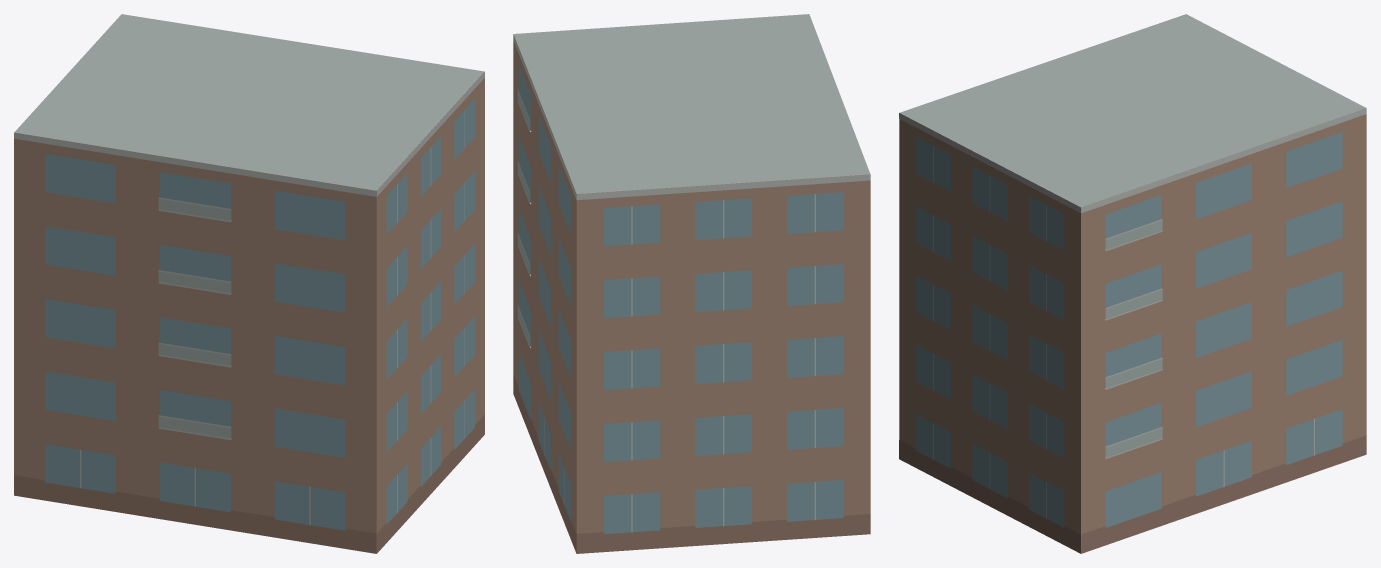
Rendered from survey-upis-32974976.glb.
3 views of the same model, side by side, from view 1: azimuth 30°, elevation 25°; view 2: azimuth 150°, elevation 25°; view 3: azimuth 270°, elevation 25° (orthographic). The views are drawn at different scales.
Visible parts, largest first — view 1: survey-upis-32974976.tmp; view 2: survey-upis-32974976.tmp; view 3: survey-upis-32974976.tmp.
Part boxes in pixels (left/top/right/bottom): survey-upis-32974976.tmp: left=14, top=14, right=484, bottom=553; survey-upis-32974976.tmp: left=513, top=14, right=870, bottom=553; survey-upis-32974976.tmp: left=899, top=14, right=1366, bottom=553.
Size of the model in its own units: 17.26 by 14.4 by 17.62.
